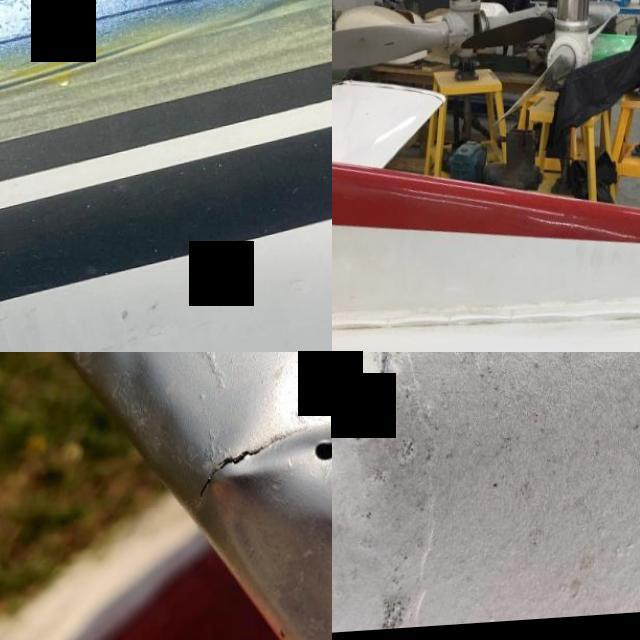Crack: (373, 278, 640, 352), (178, 408, 326, 532), (351, 352, 430, 402)
Dent: (152, 352, 332, 640)
